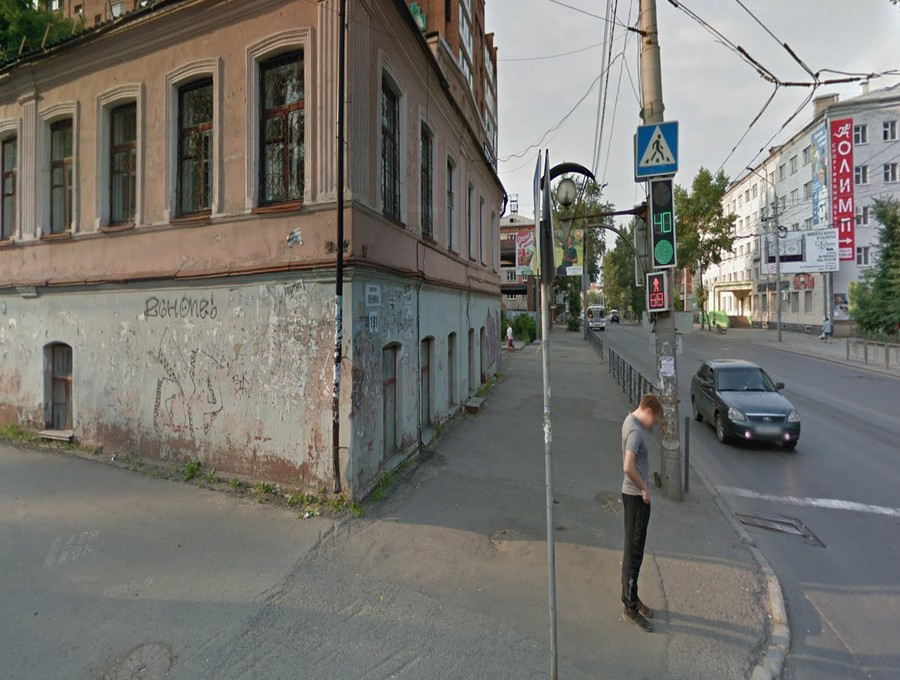Traffic Light-red: (645, 269, 667, 313)
